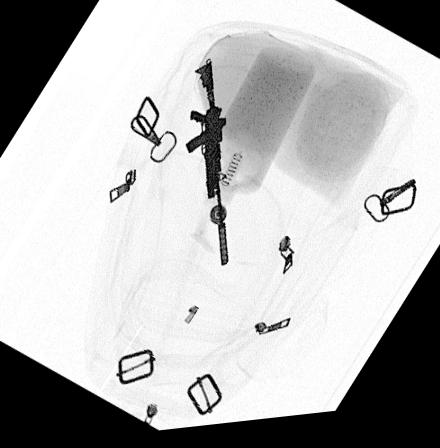Gun: (185, 64, 229, 271)
